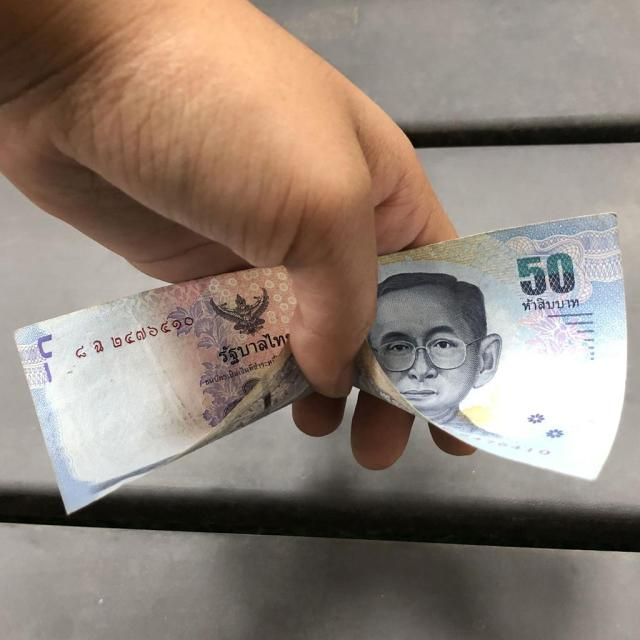THAI50: (15, 268, 314, 514), (353, 214, 627, 481)
